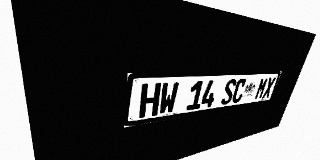1: (186, 80, 206, 111)
4: (200, 80, 219, 108)
C: (231, 78, 247, 104)
H: (139, 83, 161, 118)
M: (254, 77, 269, 100)
S: (220, 79, 237, 105)
W: (158, 82, 179, 115)
X: (262, 77, 276, 99)
